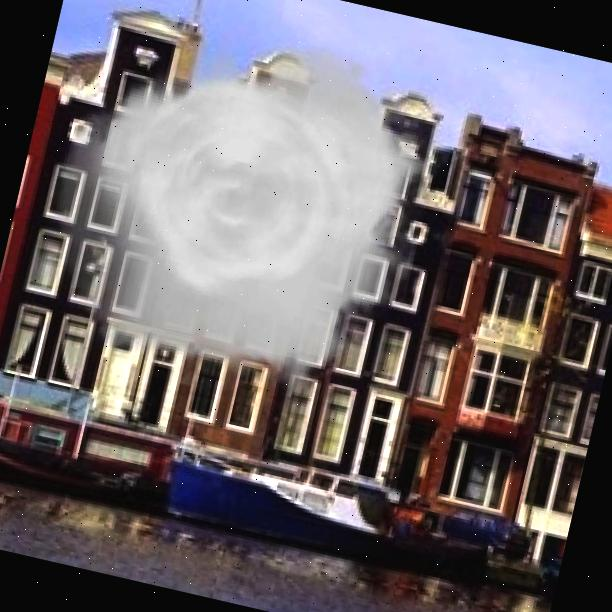smoke: (18, 0, 459, 428)
